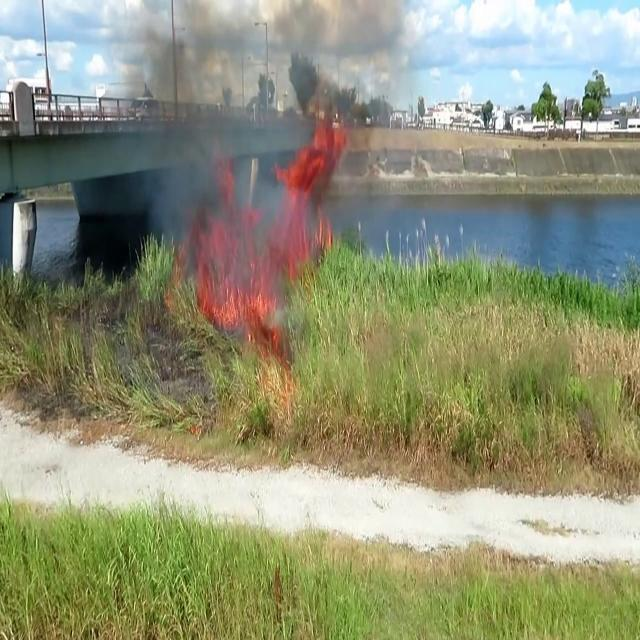Fire: (288, 112, 340, 278)
Smoke: (117, 0, 421, 290)
